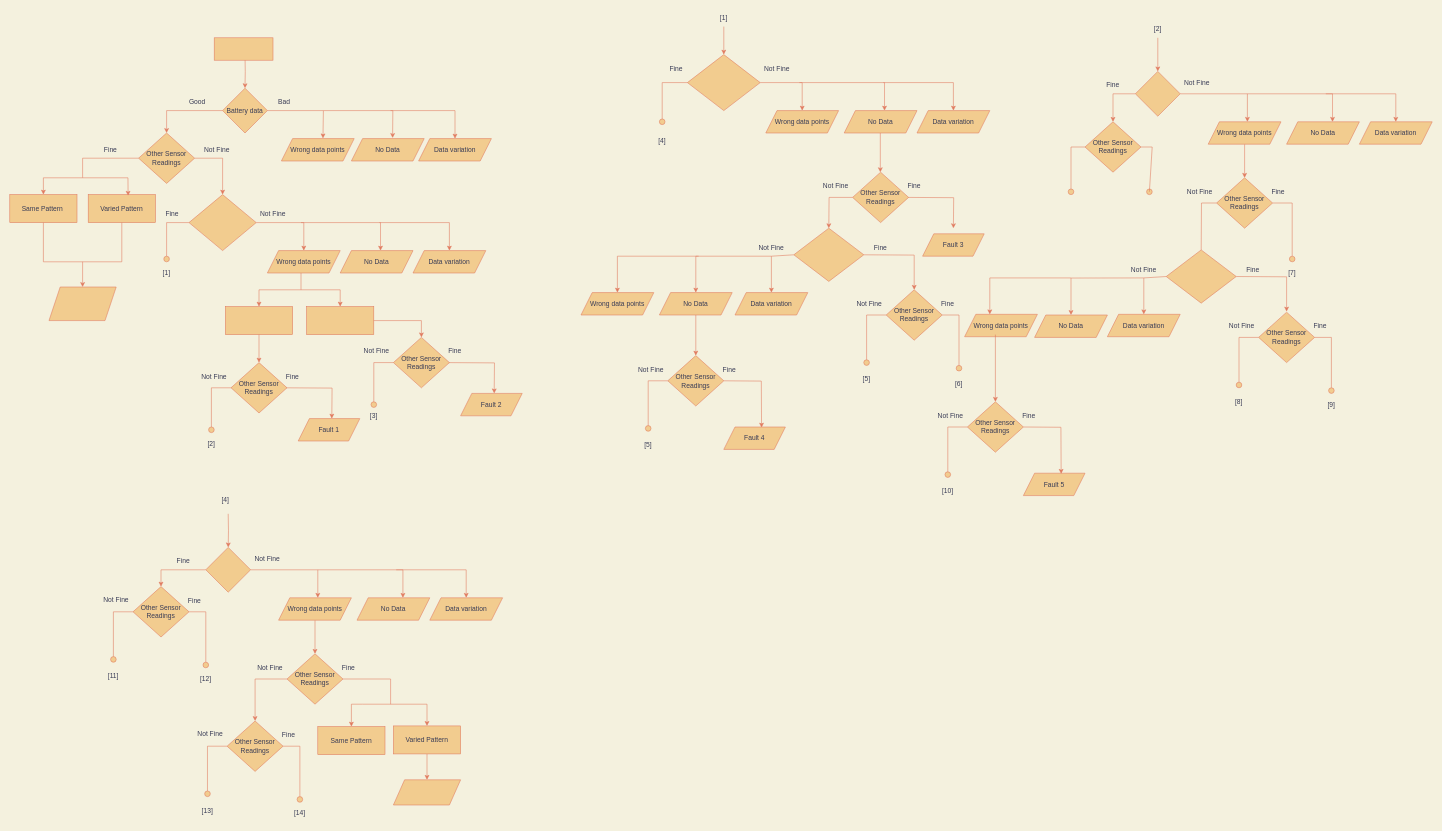
The diagram is 1442 pixels wide and 831 high, and some of its shapes have lost their labels. The centre of each missing label's shape, as x and y in pixels:
"at several datapoints" goes at (x=340, y=320).
"Continuously" goes at (x=259, y=320).
"Device is fine" goes at (x=82, y=303).
"Fault 6" goes at (x=427, y=792).
"Humidity" goes at (x=1157, y=93).
"Issues" goes at (x=243, y=48).
"Light Intensity" goes at (x=228, y=569).
"Signal Strength" goes at (x=828, y=254).
"Soil Conductivity" goes at (x=1201, y=276).
"Soil Temperature Readings" goes at (x=723, y=82).
"Temperature & Humidity readings" goes at (x=222, y=222).
